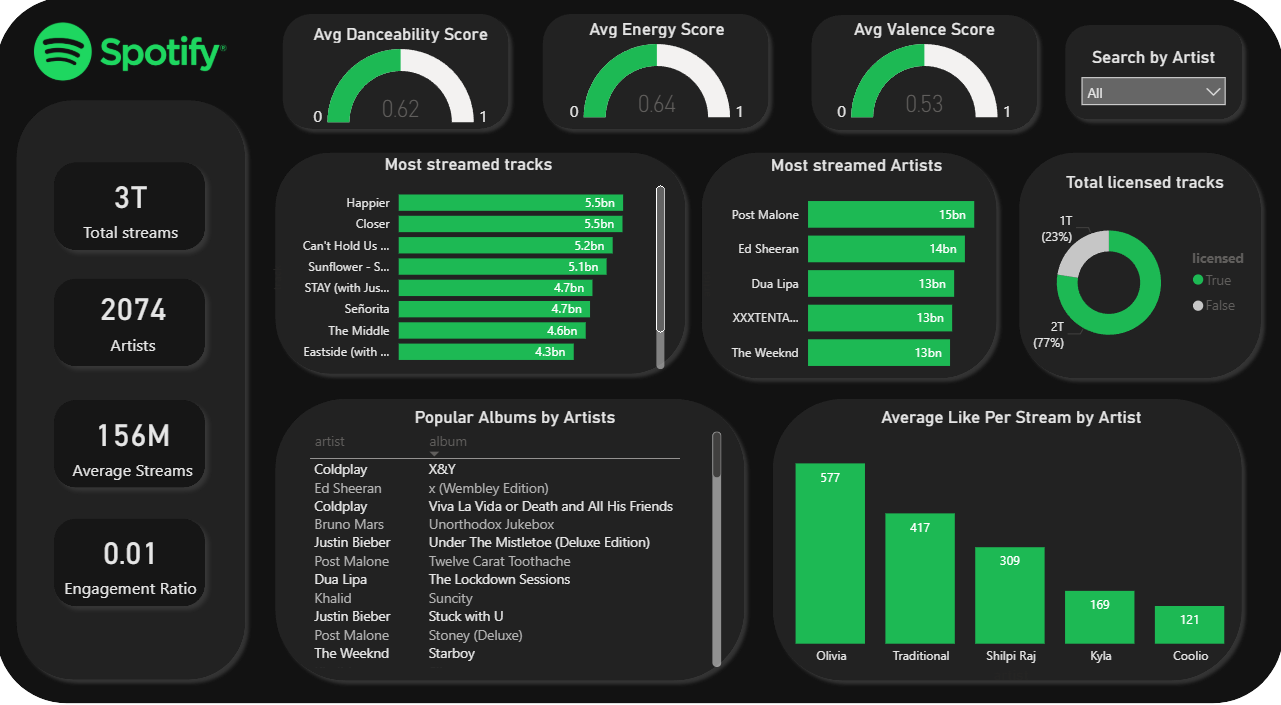

What the dashboard file says about the page in this screenshot:
{"tool":"powerbi","page":{"name":"Main dashboard","canvas":[1280,720],"ordinal":0},"visuals":[{"type":"shape","box":[10.1,14.4,1259.5,691.1],"z":0},{"type":"shape","box":[21.6,108.2,239.5,582.9],"z":1000},{"type":"image","box":[21.6,30.3,239.5,77.9],"z":2000},{"type":"shape","box":[57.7,167.4,165.9,103.9],"z":3000},{"type":"card","fields":{"Values":["Sum(public spotify.stream)"]},"box":[69.3,167.4,144.3,103.9],"z":4000},{"type":"shape","box":[57.7,516.5,165.9,103.9],"z":5000},{"type":"shape","box":[57.7,399.6,165.9,103.9],"z":6000},{"type":"shape","box":[57.7,281.3,165.9,103.9],"z":7000},{"type":"card","fields":{"Values":["public spotify.Unique Artists"]},"box":[57.7,274.1,173.1,111.1],"z":8000},{"type":"card","fields":{"Values":["public spotify.Average Streams per Track"]},"box":[39,391,209.2,121.2],"z":9000},{"type":"card","fields":{"Values":["public spotify.Engagement Ratio"]},"box":[54.8,512.2,173.1,111.1],"z":10000},{"type":"shape","box":[275.6,158.7,417,232.3],"z":11000},{"type":"barChart","title":"Most streamed tracks","fields":{"Category":["public spotify.track"],"Y":["Sum(public spotify.stream)"]},"box":[275.6,167.4,393.9,216.4],"z":12000},{"type":"shape","box":[275.6,399.6,474.7,291.4],"z":13000},{"type":"tableEx","title":"Popular Albums by Artists","fields":{"Values":["public spotify.artist","public spotify.album"]},"box":[310.2,415.5,414.1,259.7],"z":14000},{"type":"shape","box":[692.5,158.7,304.4,236.6],"z":15000},{"type":"clusteredBarChart","title":"Most streamed Artists","fields":{"Category":["public spotify.artist"],"Y":["Sum(public spotify.stream)"]},"box":[694,168.8,314.5,226.5],"z":16000},{"type":"shape","box":[761.8,399.6,474.7,291.4],"z":17000},{"type":"clusteredColumnChart","title":"Average Like Per Stream by Artist","fields":{"Category":["public spotify.artist"],"Y":["public spotify.LikesPerStream"]},"box":[751.7,415.5,502.1,275.6],"z":18000},{"type":"shape","box":[1002.7,158.7,252.5,236.6],"z":19000},{"type":"donutChart","title":"Total licensed tracks","fields":{"Y":["Sum(public spotify.stream)"],"Category":["public spotify.licensed"]},"box":[1012.8,186.1,242.4,197.7],"z":20000},{"type":"shape","box":[536.7,23.1,236.6,128.4],"z":21000},{"type":"gauge","title":"Avg Energy Score","fields":{"Y":["Avg(public spotify.energy)"]},"box":[561.2,36.1,190.4,108.2],"z":22000},{"type":"shape","box":[799.3,24.5,236.6,128.4],"z":23000},{"type":"shape","box":[282.8,23.1,236.6,128.4],"z":24000},{"type":"gauge","title":"Avg Valence Score","fields":{"Y":["Avg(public spotify.valence)"]},"box":[822.4,36.1,190.4,108.2],"z":25000},{"type":"gauge","title":"Avg Danceability Score","fields":{"Y":["Avg(public spotify.danceability)"]},"box":[310.2,40.4,190.4,108.2],"z":26000},{"type":"shape","box":[1047.4,34.6,189,108.2],"z":27000},{"type":"slicer","title":"Search by Artist","fields":{"Values":["public spotify.artist"]},"box":[1061.9,63.5,161.6,77.9],"z":28000}]}

Visuals, with their boxes in screenshot pixels (x1, y1, x2, y2), scaled from the page's 1280x720 canvas onto the 1281x705 screenshot:
shape: l=10, t=14, r=1271, b=691
shape: l=22, t=106, r=261, b=677
image: l=22, t=30, r=261, b=106
shape: l=58, t=164, r=224, b=266
card - Sum(public spotify.stream): l=69, t=164, r=214, b=266
shape: l=58, t=506, r=224, b=607
shape: l=58, t=391, r=224, b=493
shape: l=58, t=275, r=224, b=377
card - public spotify.Unique Artists: l=58, t=268, r=231, b=377
card - public spotify.Average Streams per Track: l=39, t=383, r=248, b=502
card - public spotify.Engagement Ratio: l=55, t=502, r=228, b=610
shape: l=276, t=155, r=693, b=383
"Most streamed tracks" barChart: l=276, t=164, r=670, b=376
shape: l=276, t=391, r=751, b=677
"Popular Albums by Artists" tableEx: l=310, t=407, r=725, b=661
shape: l=693, t=155, r=998, b=387
"Most streamed Artists" clusteredBarChart: l=695, t=165, r=1009, b=387
shape: l=762, t=391, r=1237, b=677
"Average Like Per Stream by Artist" clusteredColumnChart: l=752, t=407, r=1255, b=677
shape: l=1003, t=155, r=1256, b=387
"Total licensed tracks" donutChart: l=1014, t=182, r=1256, b=376
shape: l=537, t=23, r=774, b=148
"Avg Energy Score" gauge: l=562, t=35, r=752, b=141
shape: l=800, t=24, r=1037, b=150
shape: l=283, t=23, r=520, b=148
"Avg Valence Score" gauge: l=823, t=35, r=1014, b=141
"Avg Danceability Score" gauge: l=310, t=40, r=501, b=146
shape: l=1048, t=34, r=1237, b=140
"Search by Artist" slicer: l=1063, t=62, r=1224, b=138
